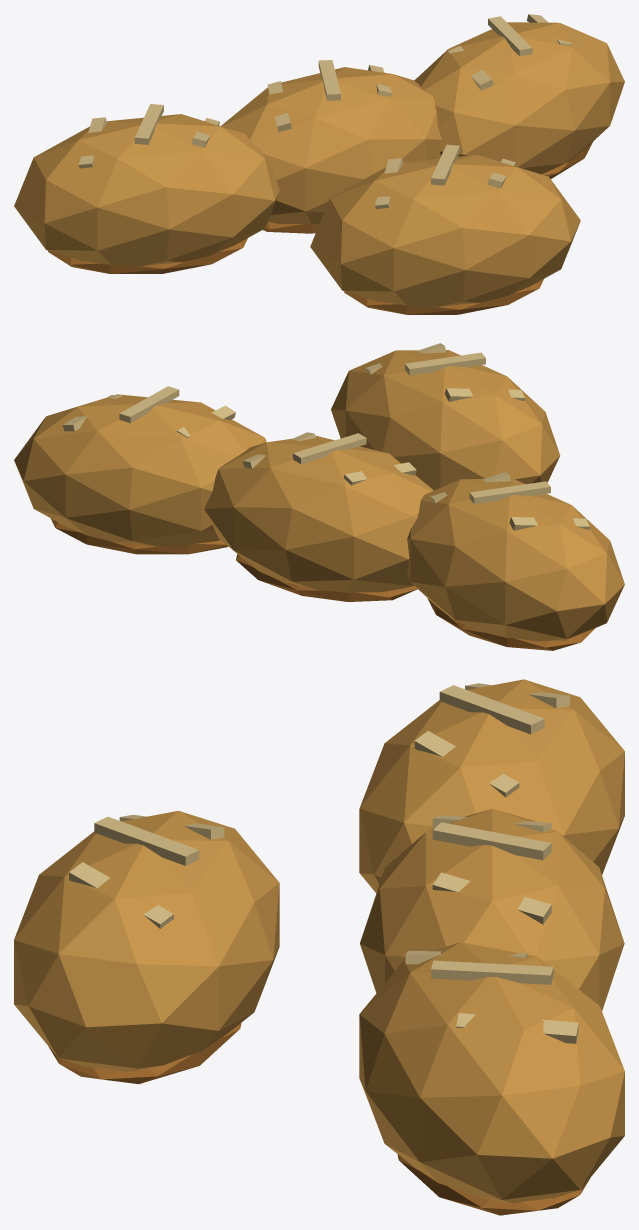
The model's file is pile-bread-4.gltf.
3 renders of one model, top to bottom at view 1: azimuth 30°, elevation 25°; view 2: azimuth 150°, elevation 25°; view 3: azimuth 270°, elevation 25°, orthographic. The views are drawn at different scales.
Visible parts, largest first — view 1: pile-bread-4; view 2: pile-bread-4; view 3: pile-bread-4.
Boxes of the visible parts, x1,y1,x2,y2 form: pile-bread-4: (14,14,624,314); pile-bread-4: (14,343,624,650); pile-bread-4: (14,679,624,1215).
Size of the model in its own units: 0.8843 by 0.2025 by 0.5306.
